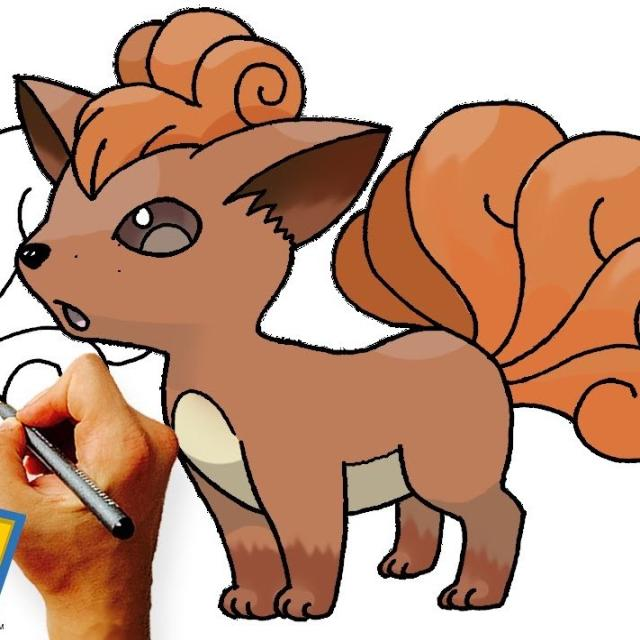Vulpix: (25, 18, 531, 591)
